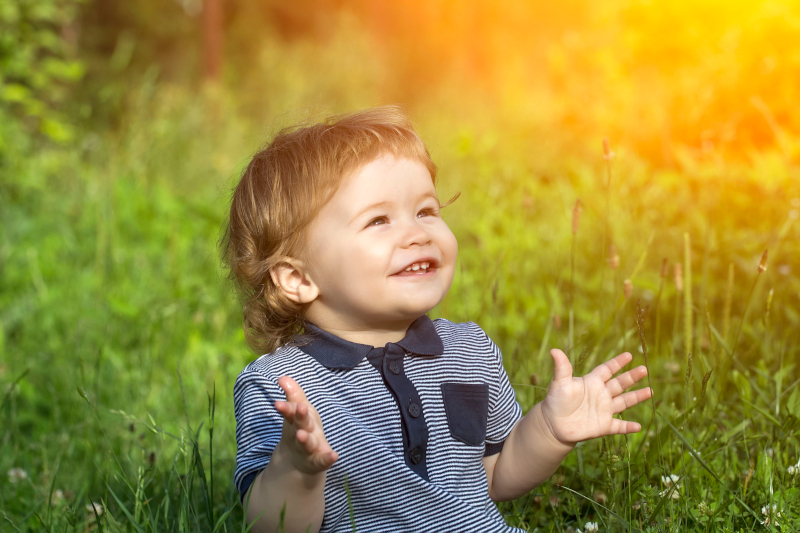human: (220, 96, 655, 533)
